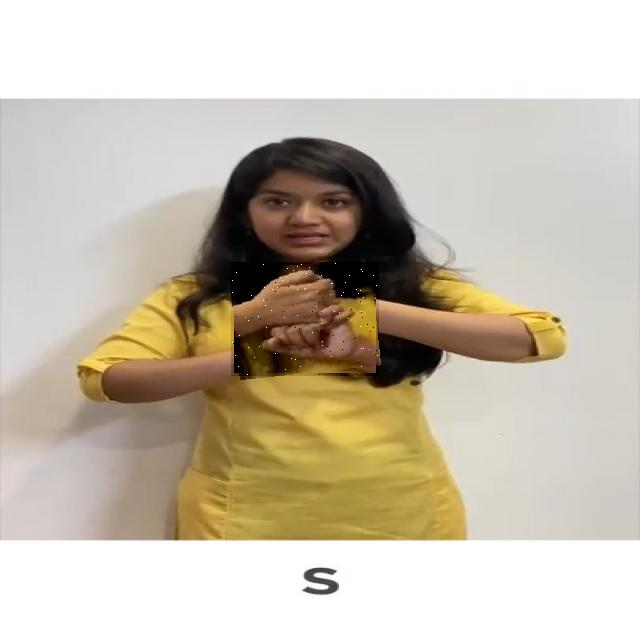S: (231, 262, 379, 376)
